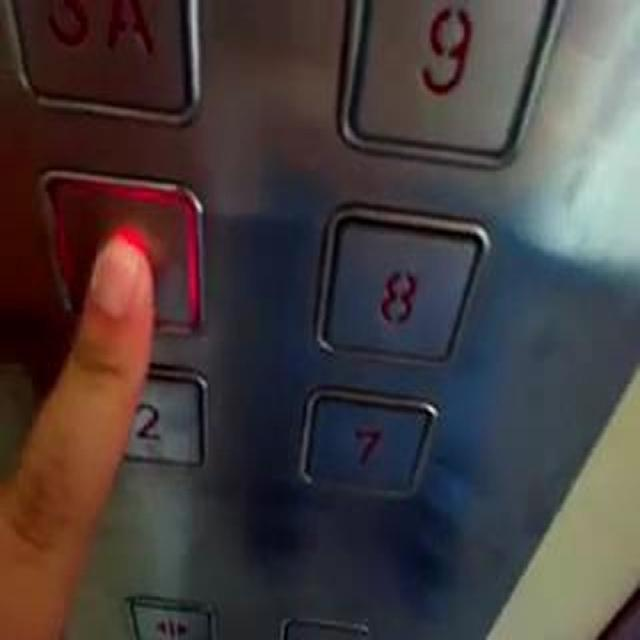2: (83, 362, 210, 470)
7: (297, 381, 438, 508)
8: (314, 200, 491, 371)
9: (330, 0, 567, 173)
open: (126, 596, 220, 639)
